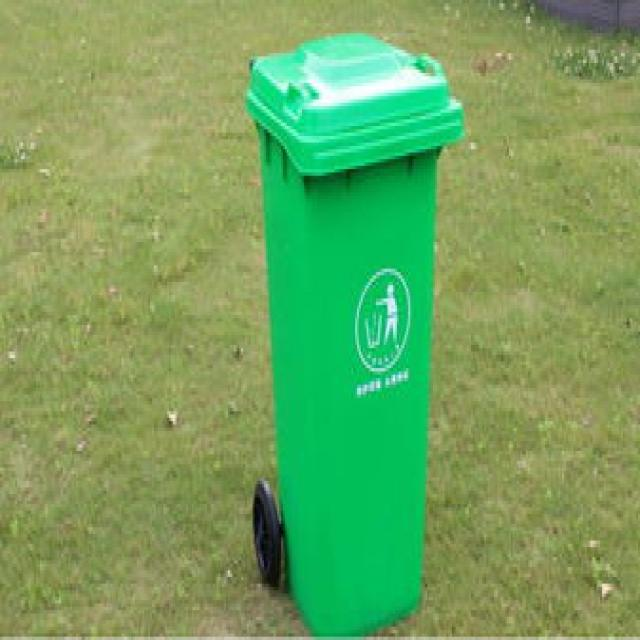garbage_bin: (243, 26, 463, 636)
